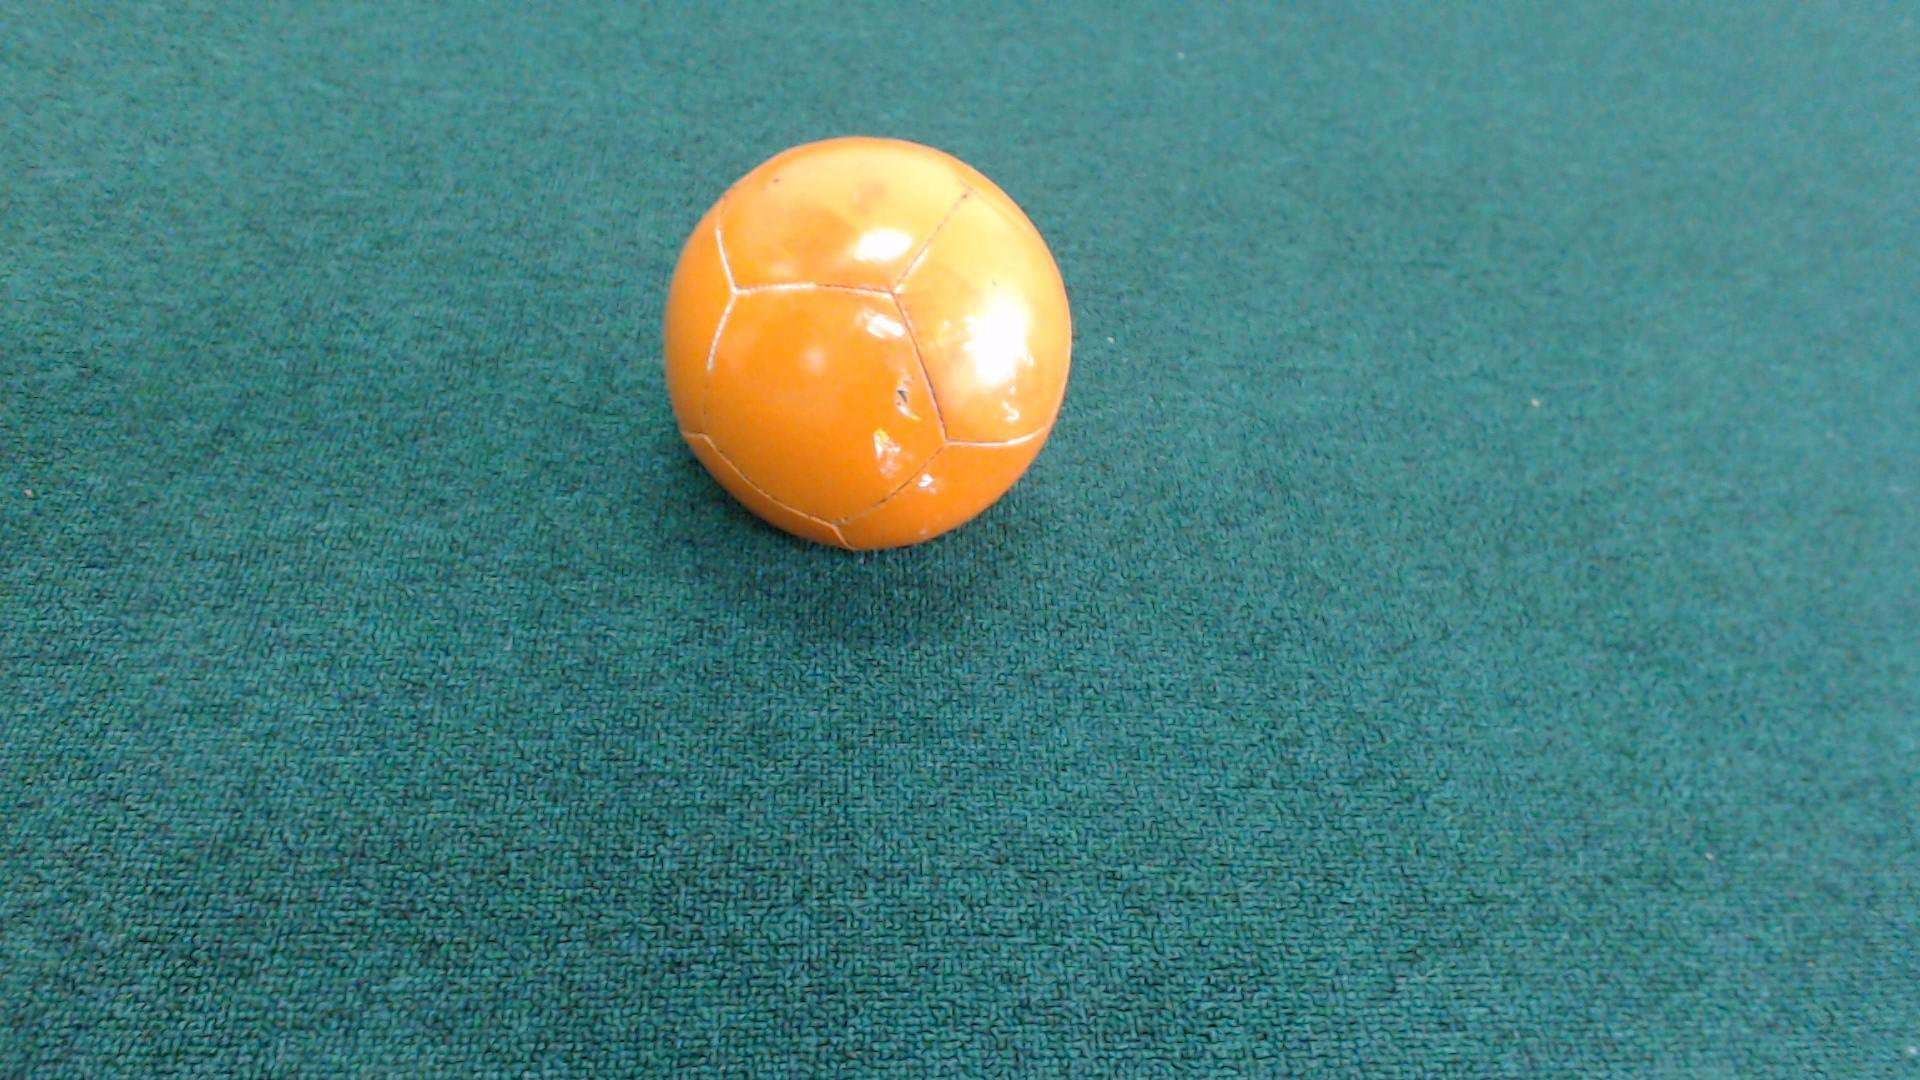bola: (592, 129, 1141, 574)
